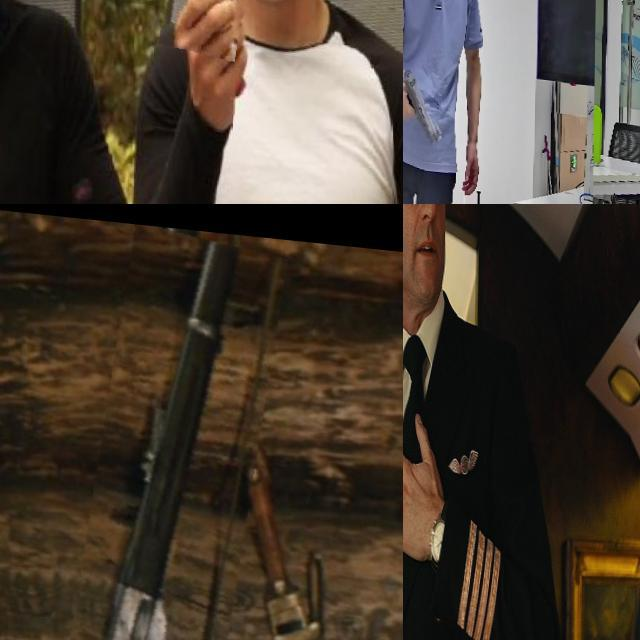-: (166, 0, 259, 105)
gun-knife-thesis - v11 Yolov5 augmented: (63, 214, 267, 640), (403, 204, 480, 567), (403, 65, 442, 142)
